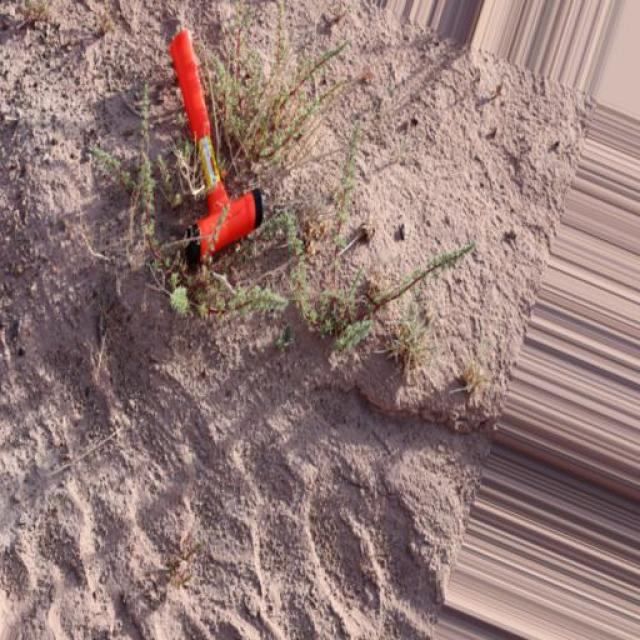mallet: (166, 26, 264, 268)
